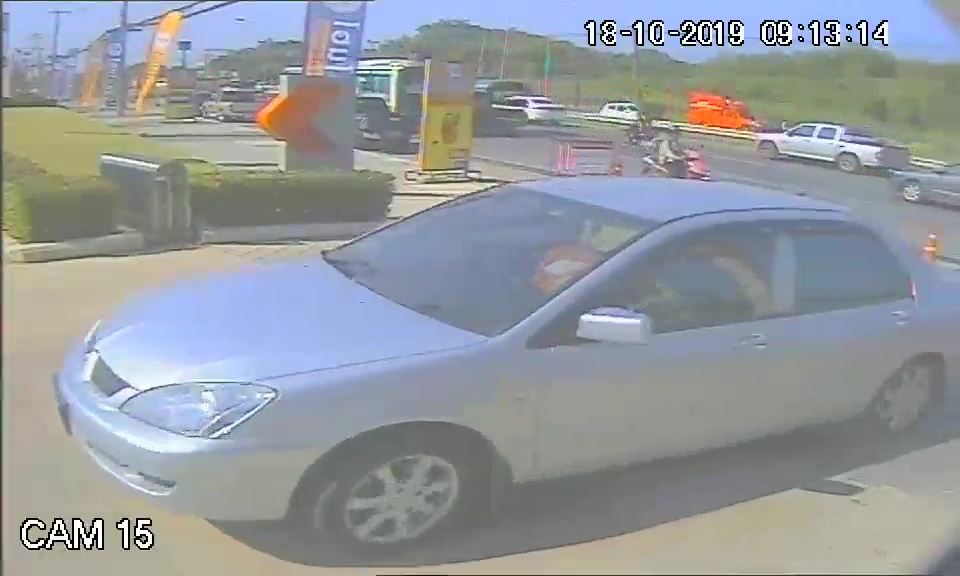sedan: (55, 174, 933, 521)
